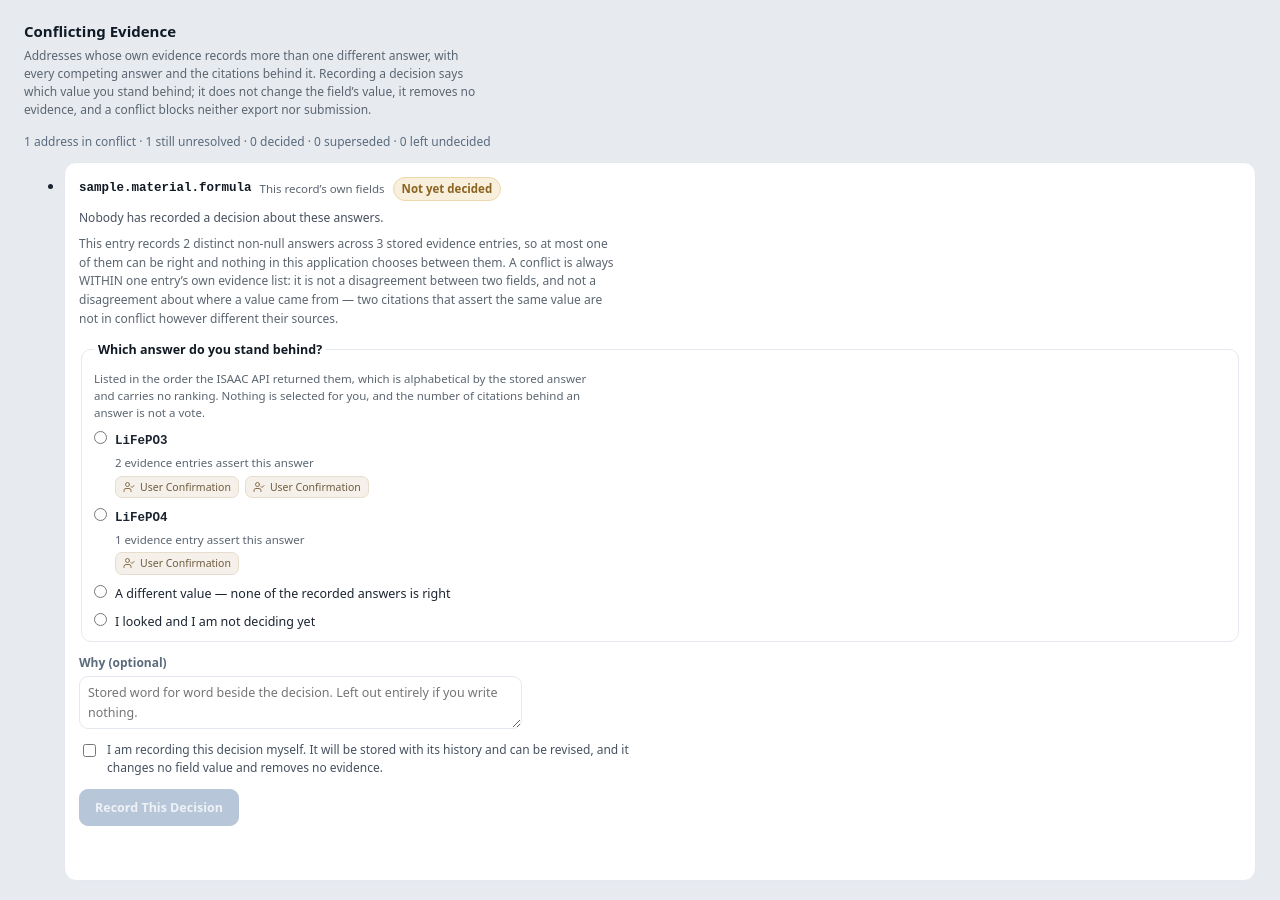
Test: choosing one of the recorded answers › the decision cannot be sent without the explicit confirmation
Click the radio button labelled "LiFePO4".
click(100, 514)  # box x1=94 y1=508 x2=107 y2=521
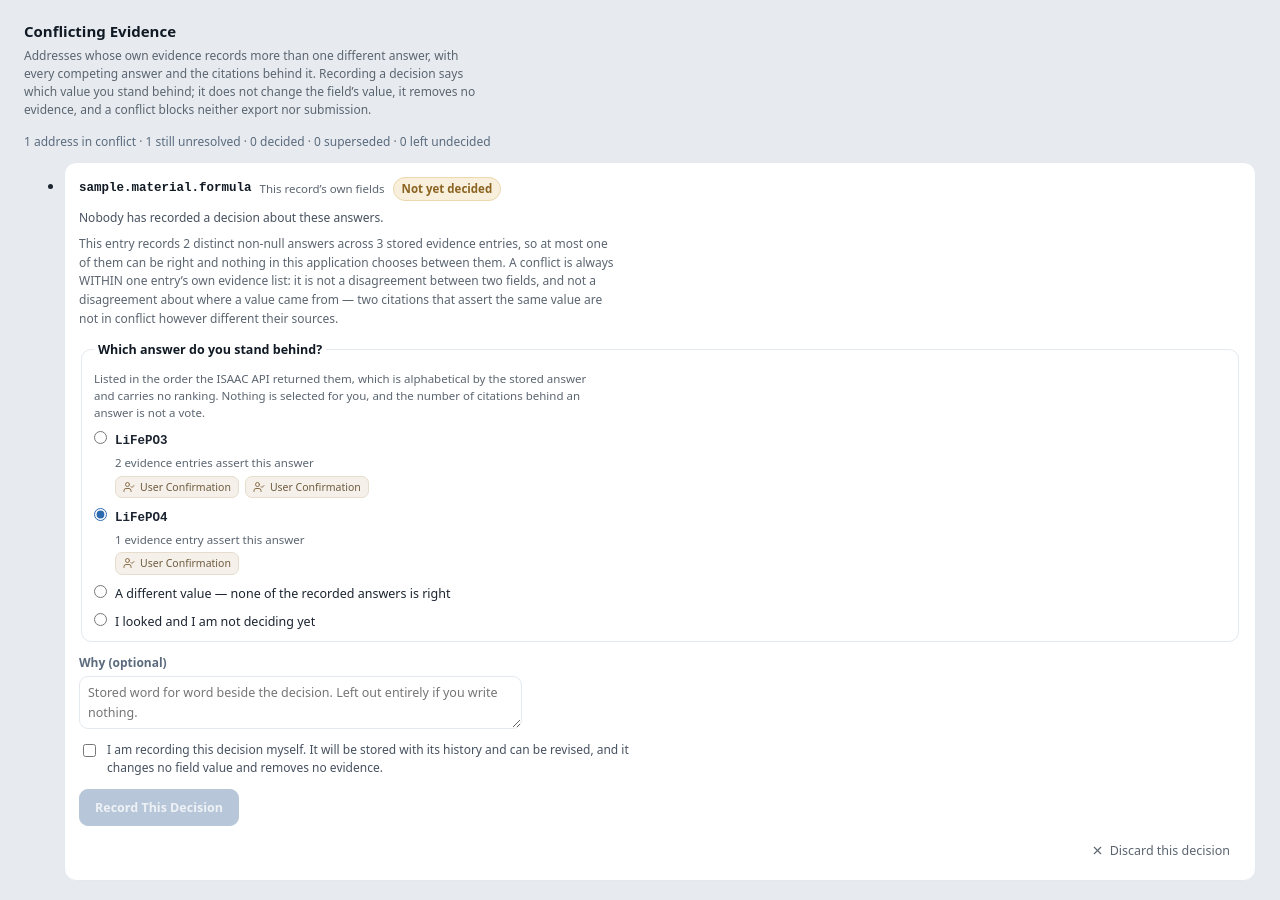
Expected: the button "Record This Decision" is disabled, x1=79 y1=789 x2=239 y2=826
Click the checkbox labelled "I am recording this decision myself".
click(90, 751)  # box x1=83 y1=744 x2=96 y2=757
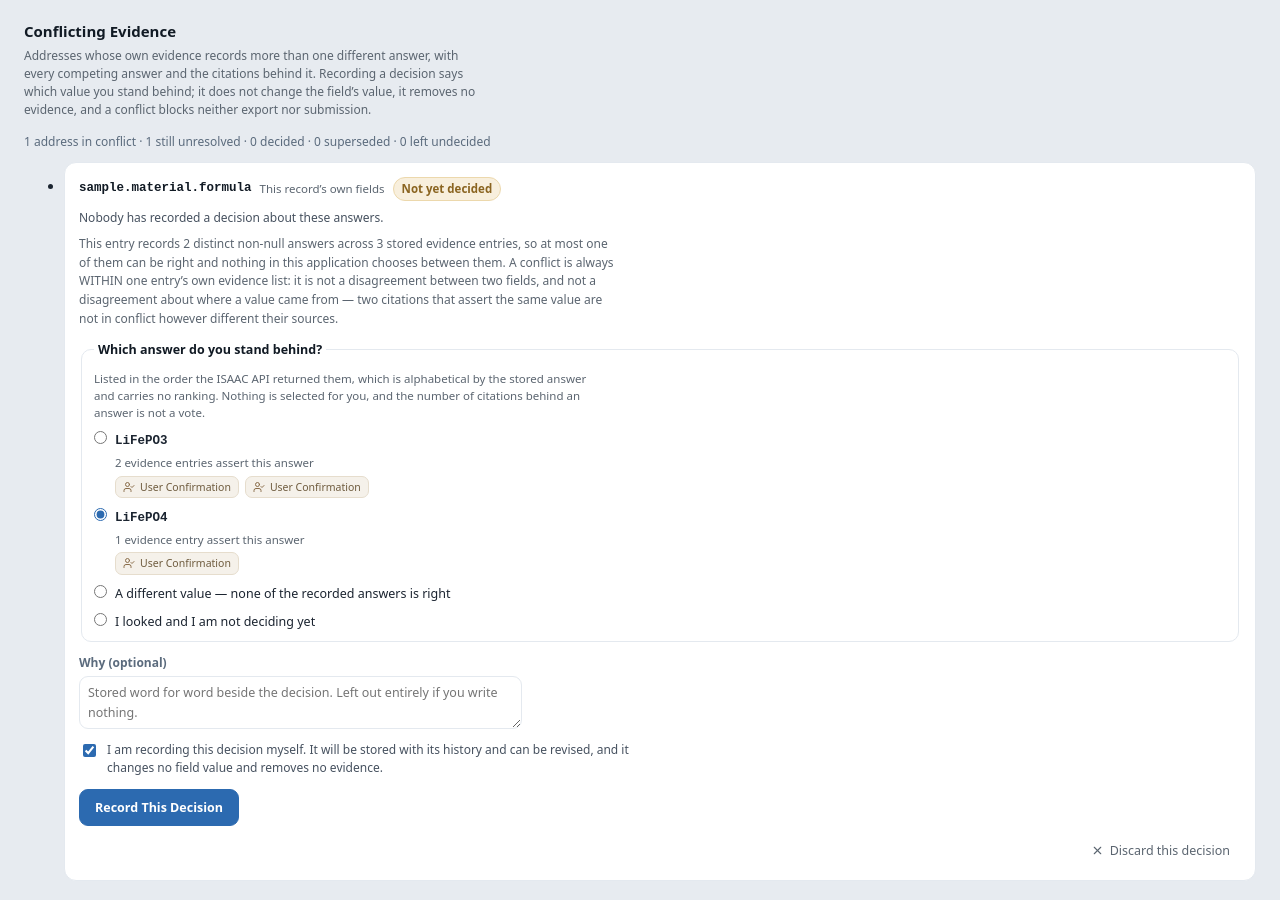
Result: the button "Record This Decision" is enabled at x1=79 y1=789 x2=239 y2=826
